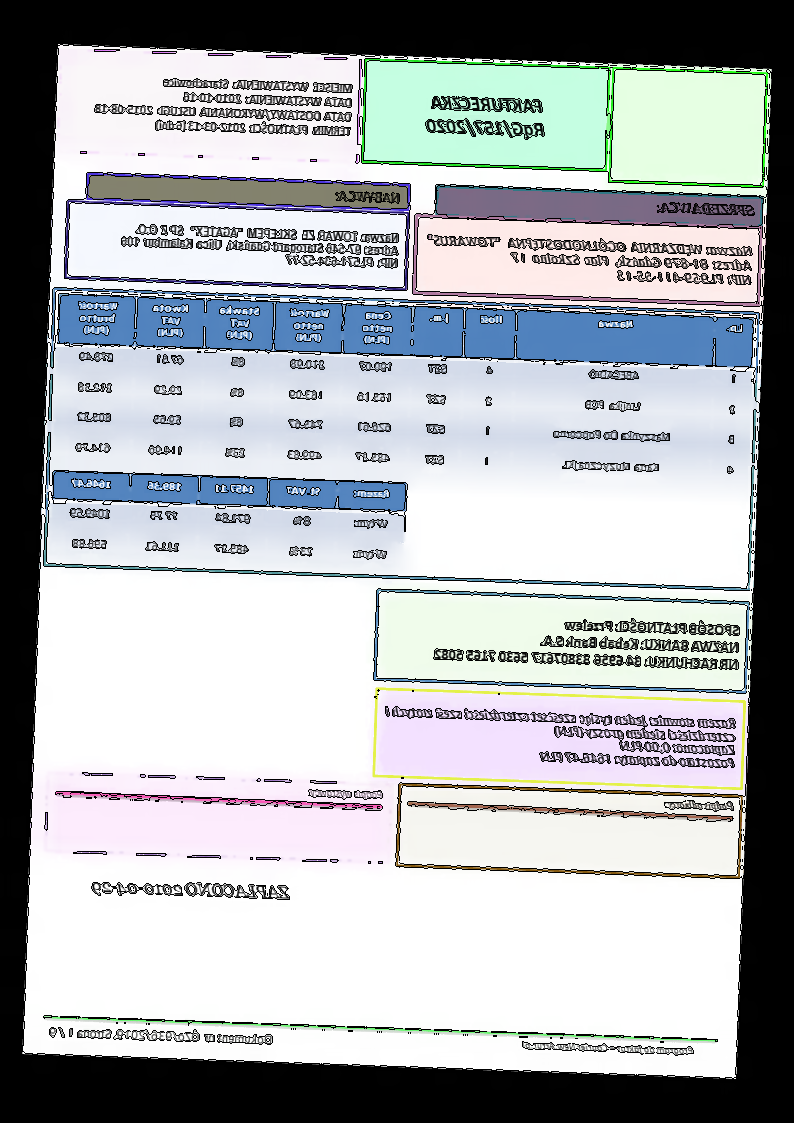Table: (53, 292, 756, 491), (49, 470, 409, 573)
TextBox: (381, 704, 739, 771), (431, 611, 743, 674), (425, 232, 756, 287), (92, 73, 355, 138), (119, 222, 401, 269), (424, 93, 548, 143), (90, 876, 292, 905), (48, 1025, 274, 1048), (520, 1038, 697, 1059), (655, 200, 758, 218), (333, 188, 403, 207), (307, 786, 385, 802), (662, 796, 736, 812)
